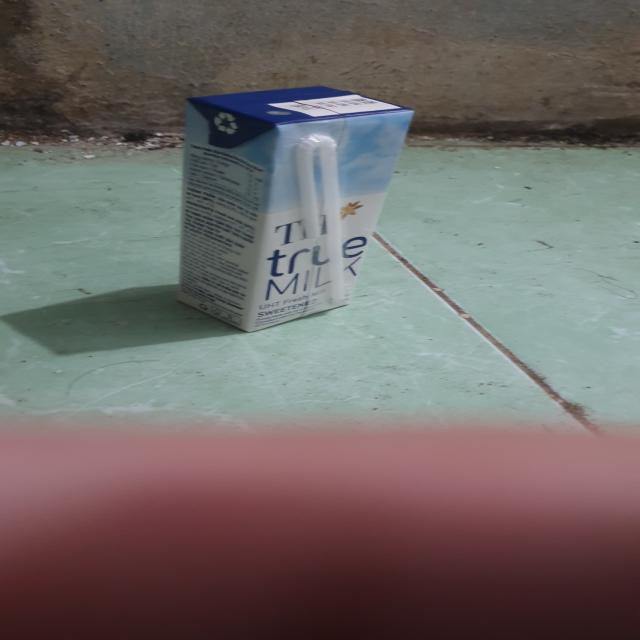TH: (177, 85, 417, 334)
